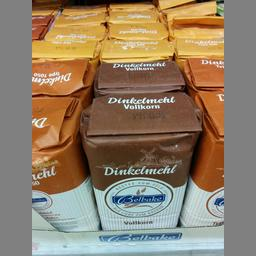flour: (85, 92, 200, 230), (32, 94, 97, 228)
